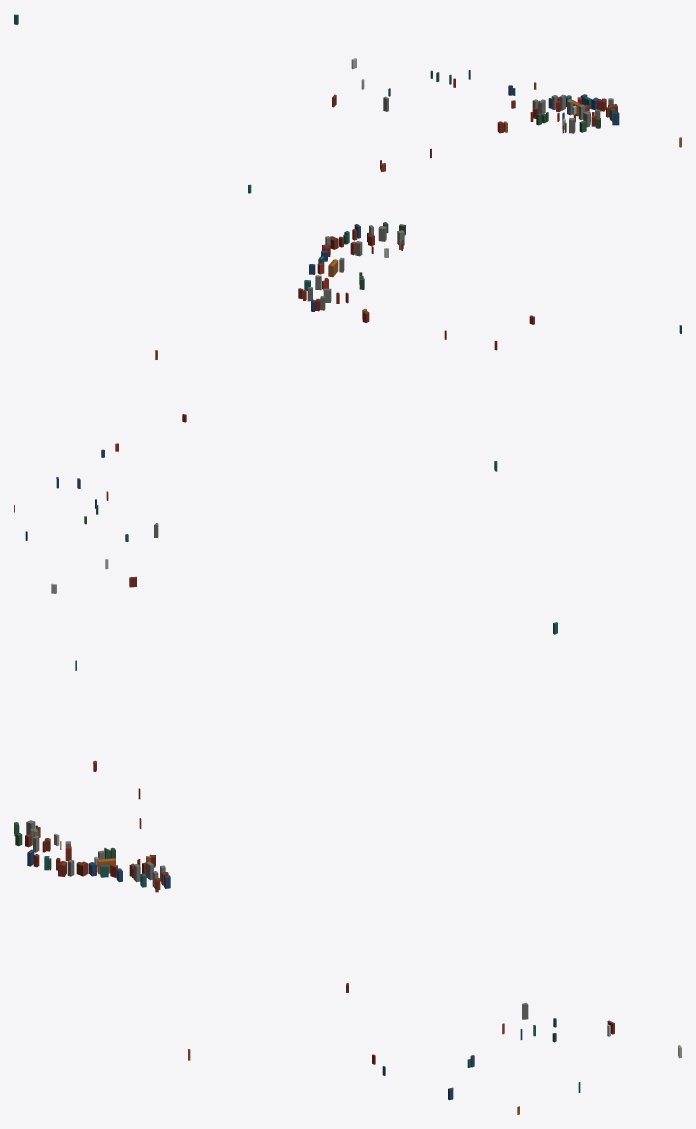
Rendered from near-15-27361-14860.697d6f34.glb.
3 views of the same model, one above another, from view 1: azimuth 30°, elevation 25°; view 2: azimuth 150°, elevation 25°; view 3: azimuth 270°, elevation 25° (orthographic). The views are drawn at different scales.
Size of the model in its own units: 947 by 343 by 948.
